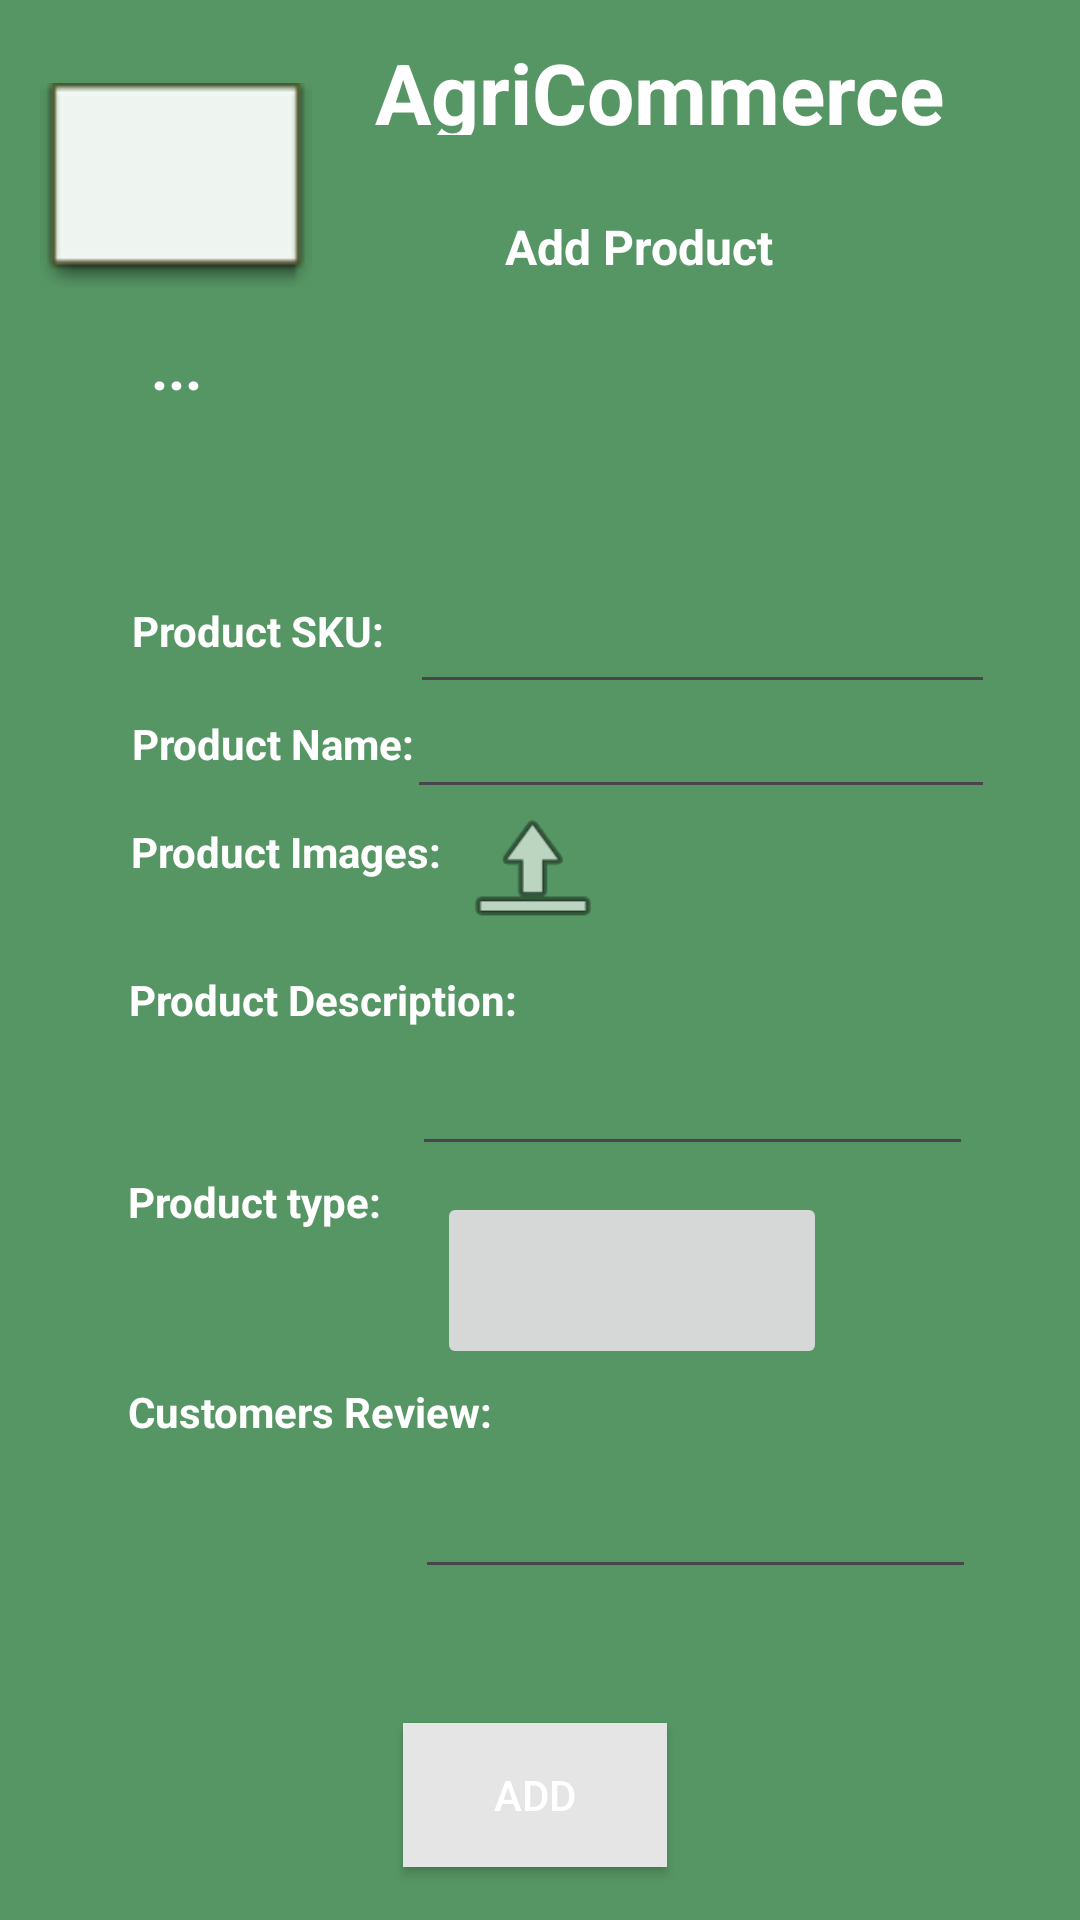

Icons on this 1080w x 1920h Android screen, each with the point to tap as (x,y):
upload: (533,868)
